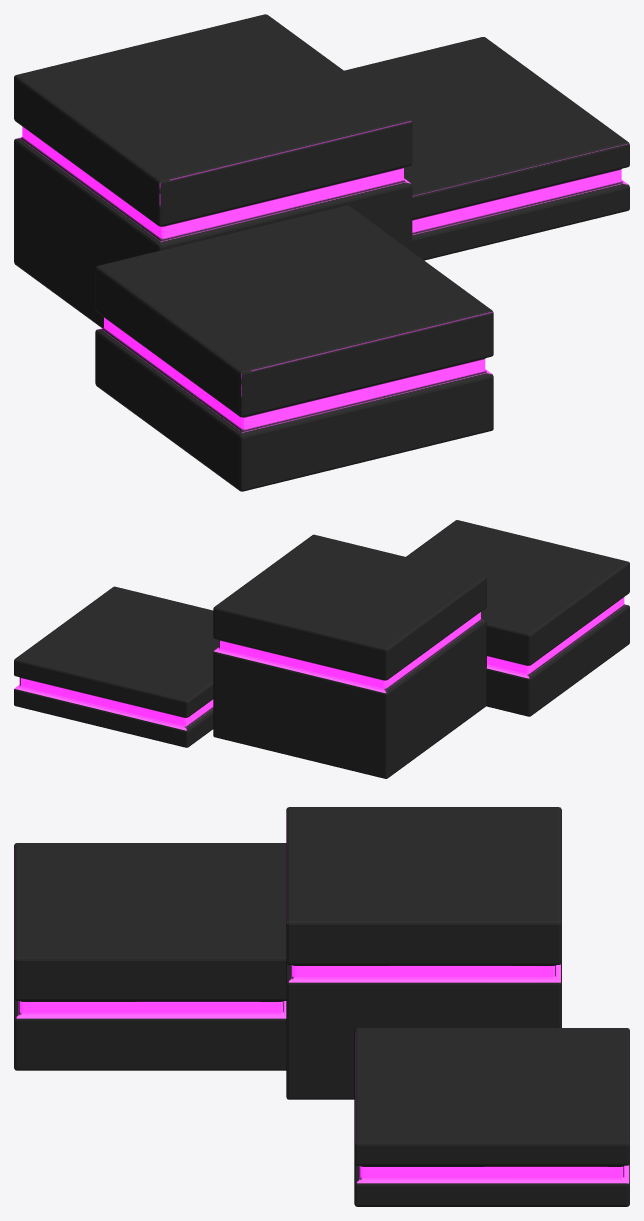
Rendered from Podium.fbx.
3 views of the same model, one above another, from view 1: azimuth 30°, elevation 25°; view 2: azimuth 150°, elevation 25°; view 3: azimuth 270°, elevation 25° (orthographic). The views are drawn at different scales.
Parts seen in each view (by area): view 1: defaultMaterial.027, defaultMaterial.028, defaultMaterial.026; view 2: defaultMaterial.028, defaultMaterial.027, defaultMaterial.026; view 3: defaultMaterial.028, defaultMaterial.027, defaultMaterial.026.
Boxes of the visible parts, x1,y1,x2,y2 form: defaultMaterial.027: [95, 205, 493, 491]; defaultMaterial.028: [14, 14, 412, 328]; defaultMaterial.026: [344, 37, 629, 260]; defaultMaterial.028: [213, 534, 486, 778]; defaultMaterial.027: [406, 520, 629, 716]; defaultMaterial.026: [14, 586, 218, 747]; defaultMaterial.028: [286, 807, 561, 1099]; defaultMaterial.027: [14, 843, 286, 1070]; defaultMaterial.026: [354, 1028, 629, 1206].
Size of the model in its own units: 3.16 by 1 by 3.14.
